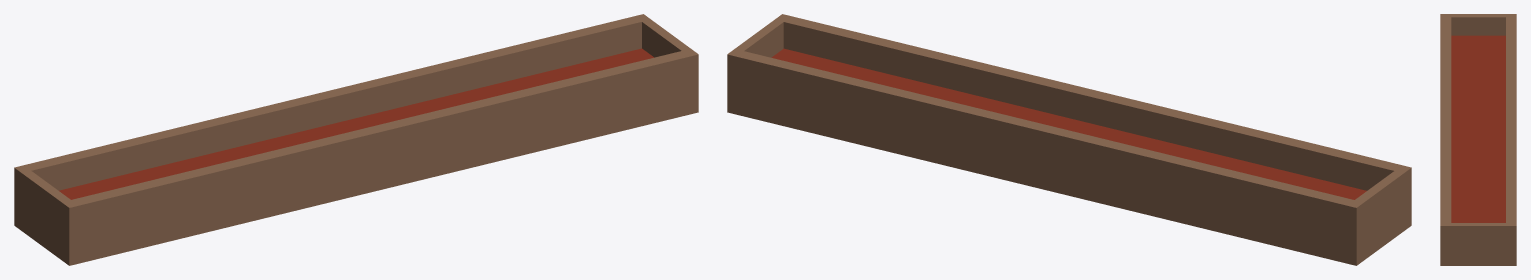
File: GardenBed.fbx
The picture shows the model from 3 angles, left to right: view 1: azimuth 30°, elevation 25°; view 2: azimuth 150°, elevation 25°; view 3: azimuth 270°, elevation 25°; orthographic projection. The views are drawn at different scales.
Parts seen in each view (by area): view 1: Cube; view 2: Cube; view 3: Cube.
Boxes of the visible parts, box(x1,y1,x2,y2) form: Cube: box(14, 14, 698, 265); Cube: box(727, 14, 1411, 265); Cube: box(1440, 14, 1516, 265).
Size of the model in its own units: 1033 by 90.92 by 157.
